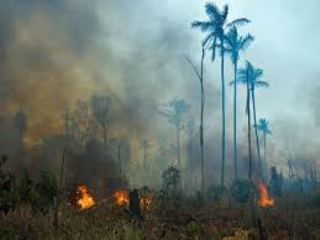fire: (73, 179, 153, 215), (256, 181, 280, 210)
smoke: (6, 26, 310, 180)
